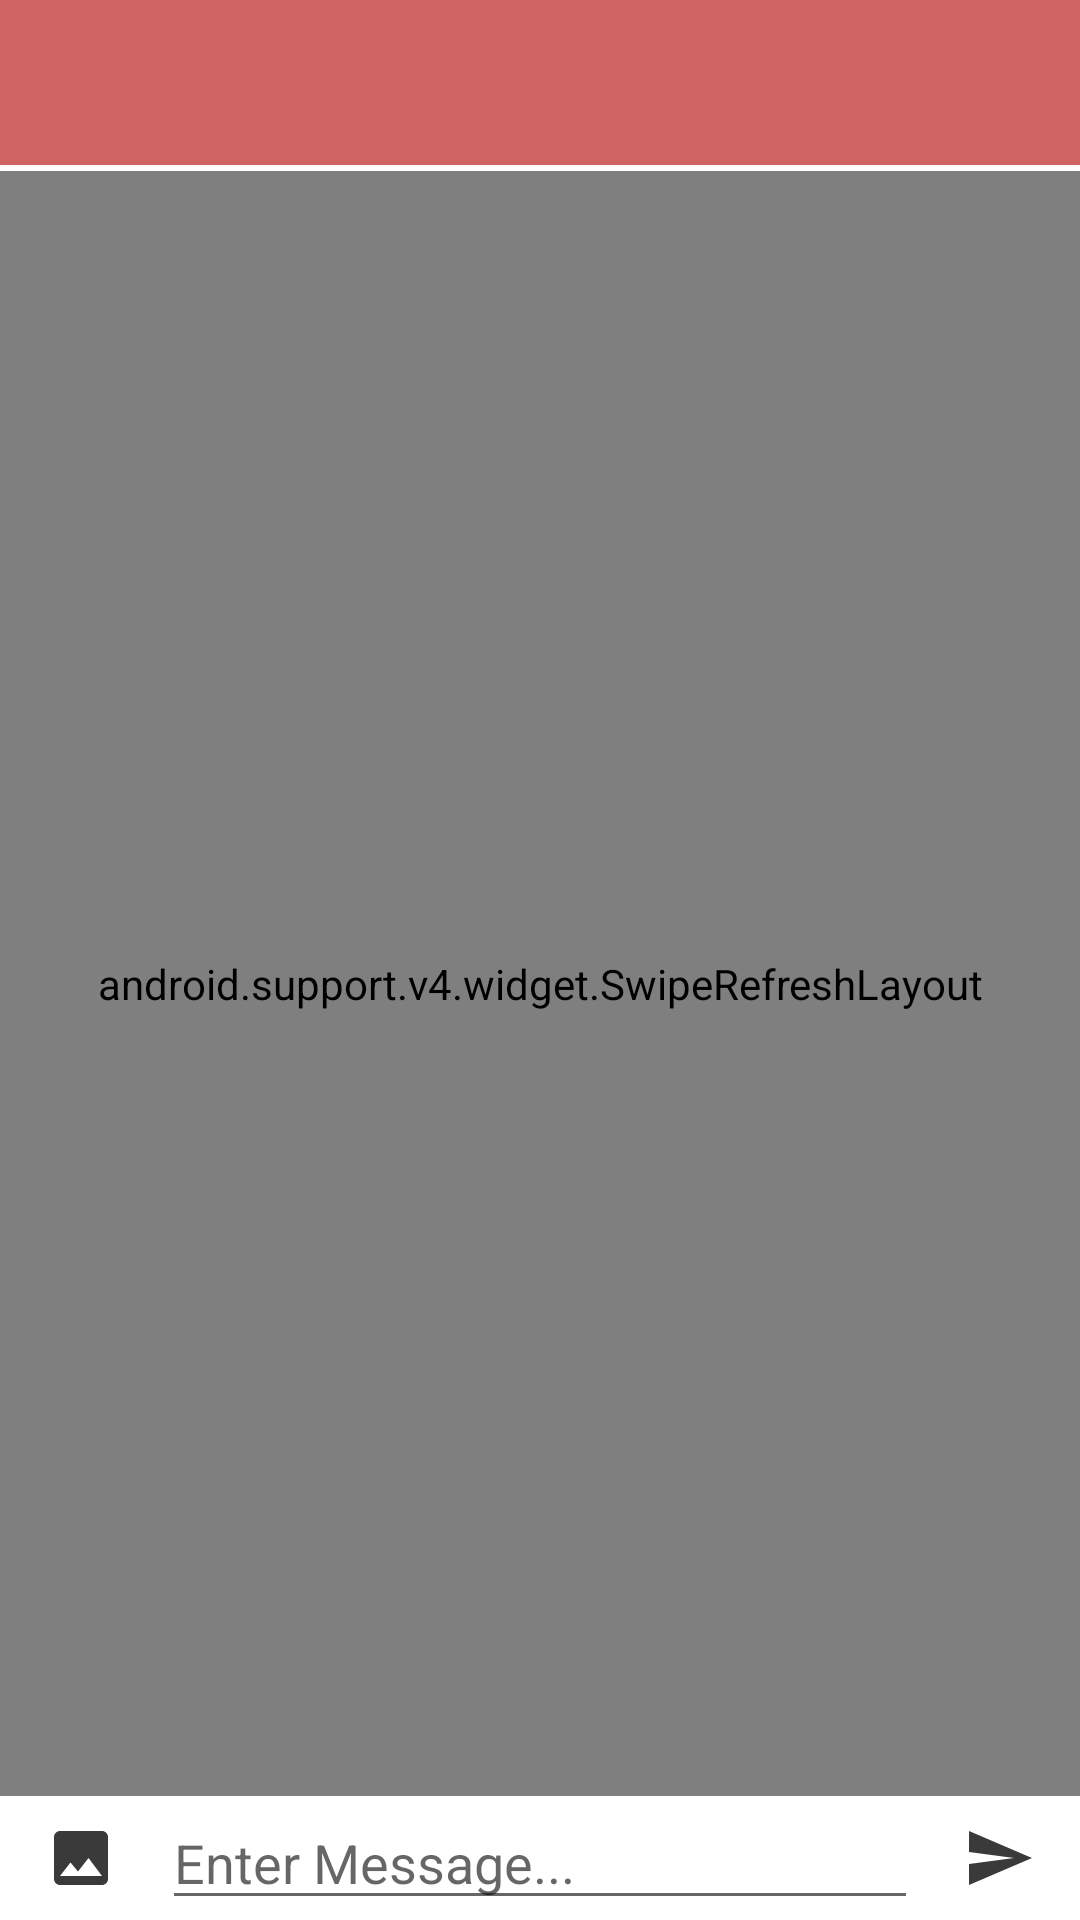

Icon bounding boxes for this 1080 x 1920 phone screenshot, format [x1,y1,x2,y2]:
photo: [54,1831,108,1885]
send: [969,1831,1032,1885]
